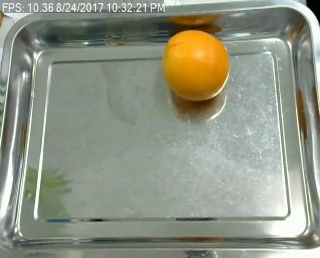Orange: (161, 27, 230, 102)
